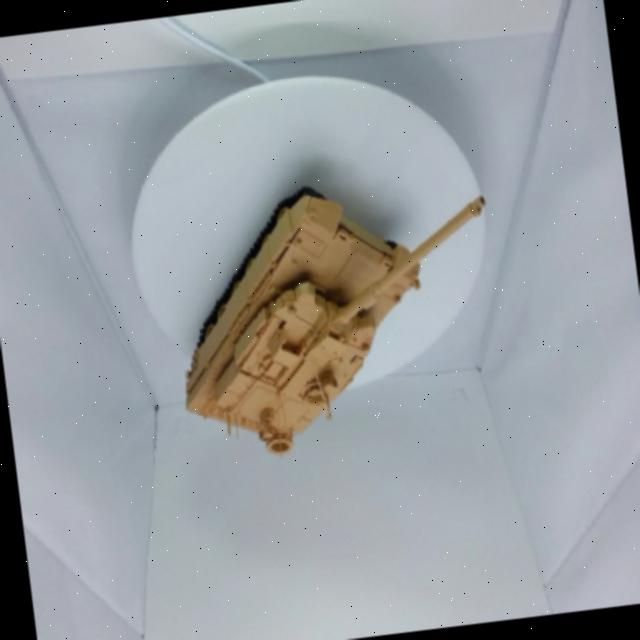korea tank: (136, 136, 540, 489)
